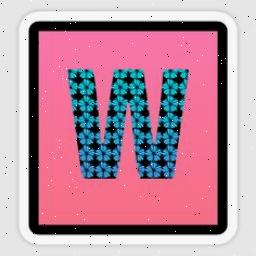w: (64, 62, 194, 186)
